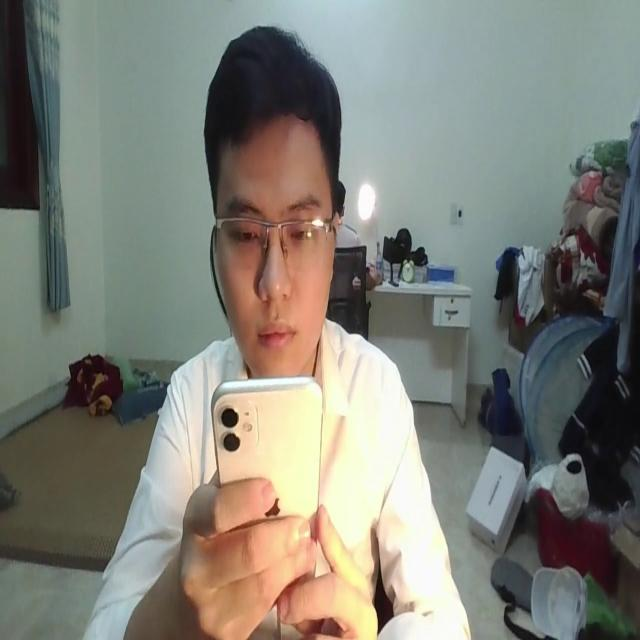phone: (208, 368, 326, 559)
student: (85, 21, 472, 640)
